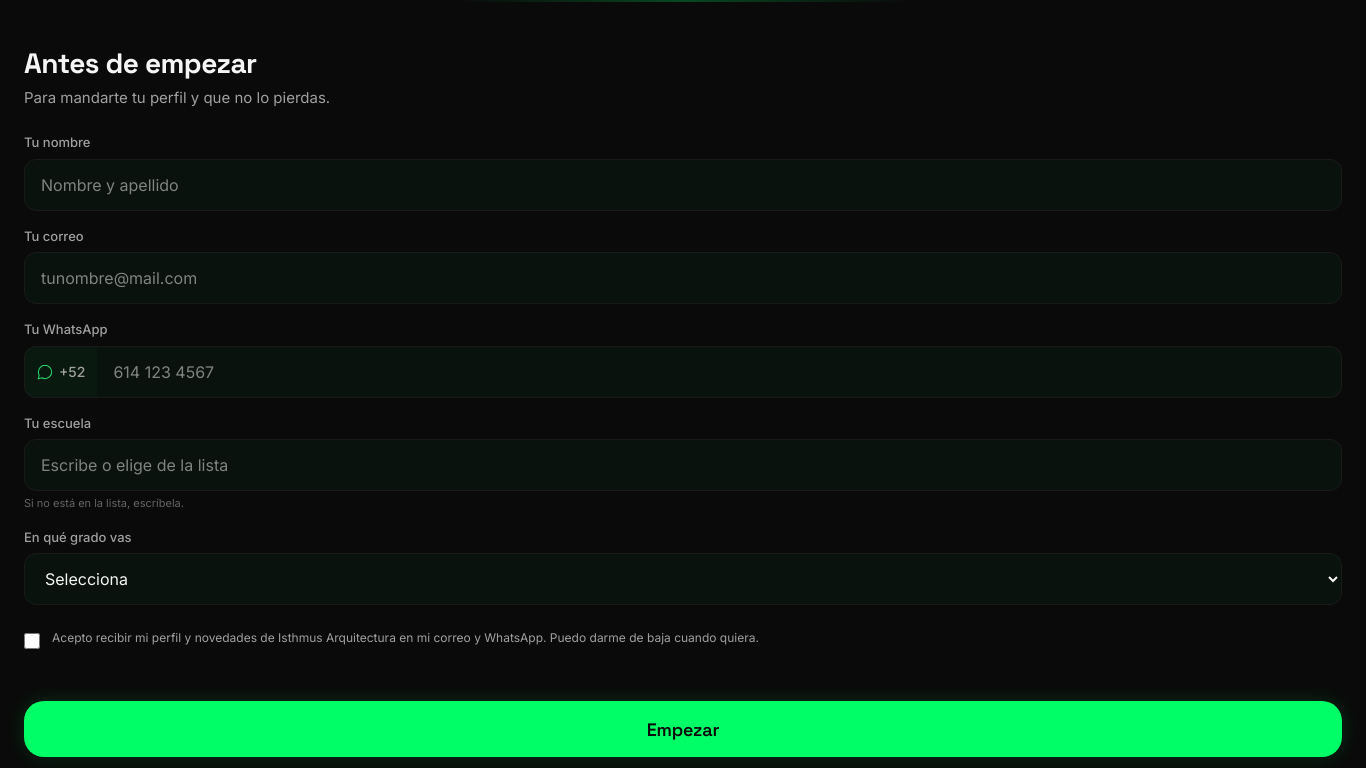
it: LeadForm — validation › blocks submit when school is empty
Type "Maria" into the field labelled "Tu nombre" at (683, 185), box [24, 159, 1342, 211]
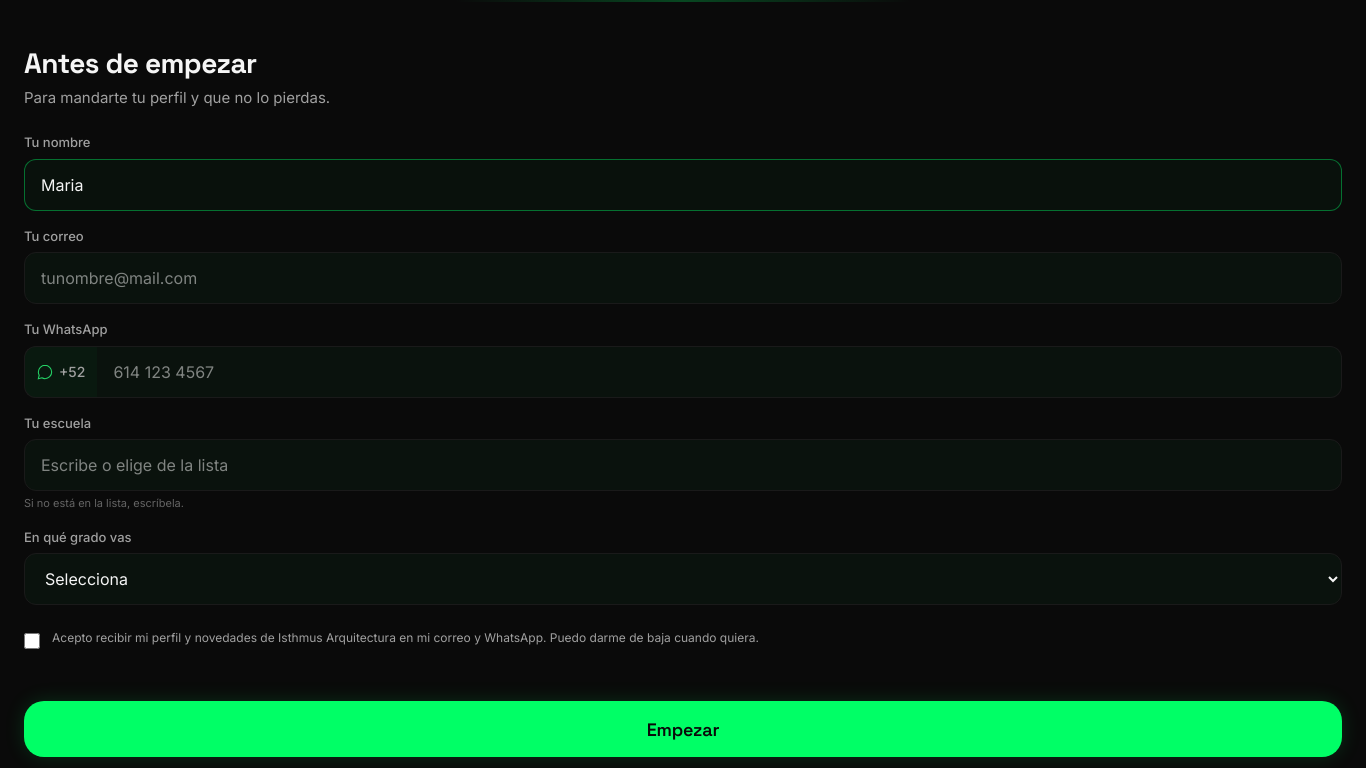
Type "maria@example.com" into the field labelled "Tu correo" at (683, 278), box [24, 252, 1342, 304]
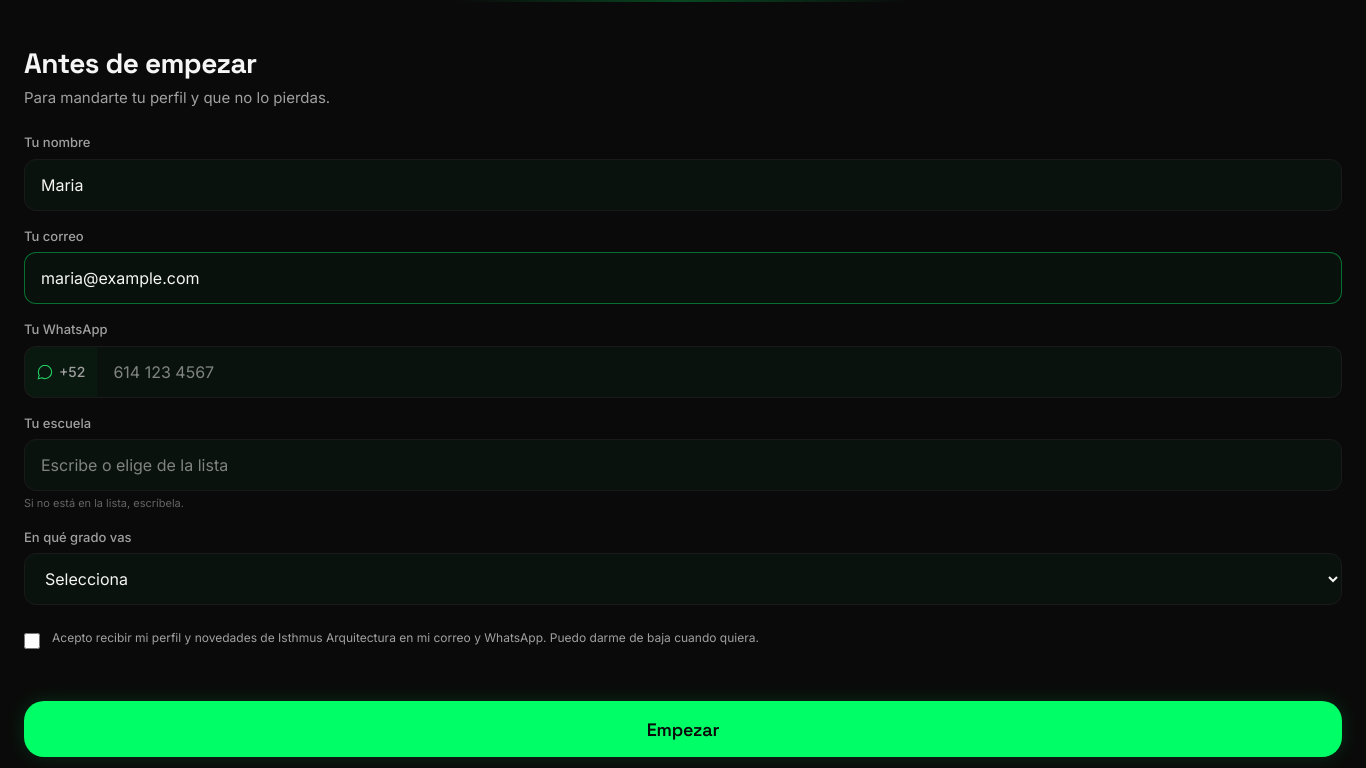
Type "6141234567" into the field labelled "Tu WhatsApp" at (720, 372), box [97, 346, 1342, 398]
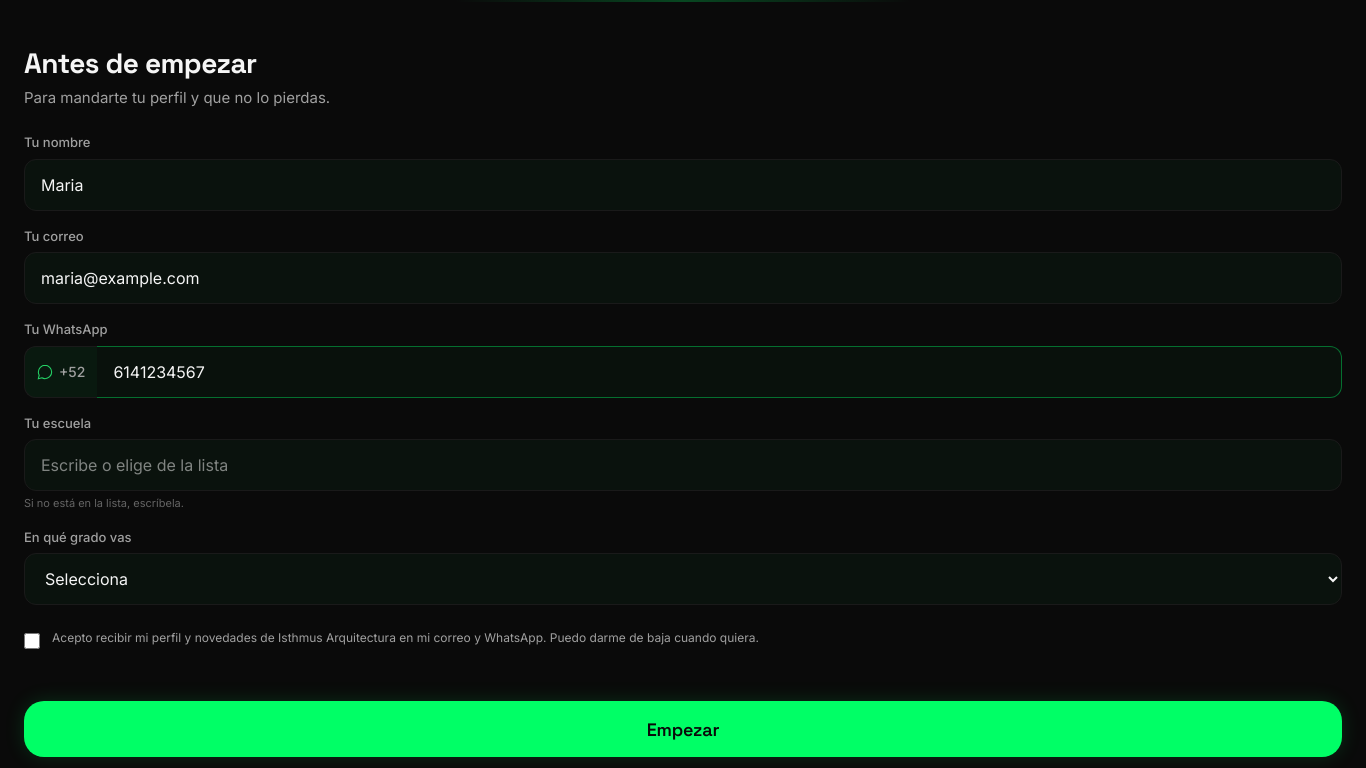
Select "3º de prepa (último año)" in the dropdown labelled "En qué grado vas" at (683, 579), box [24, 553, 1342, 605]
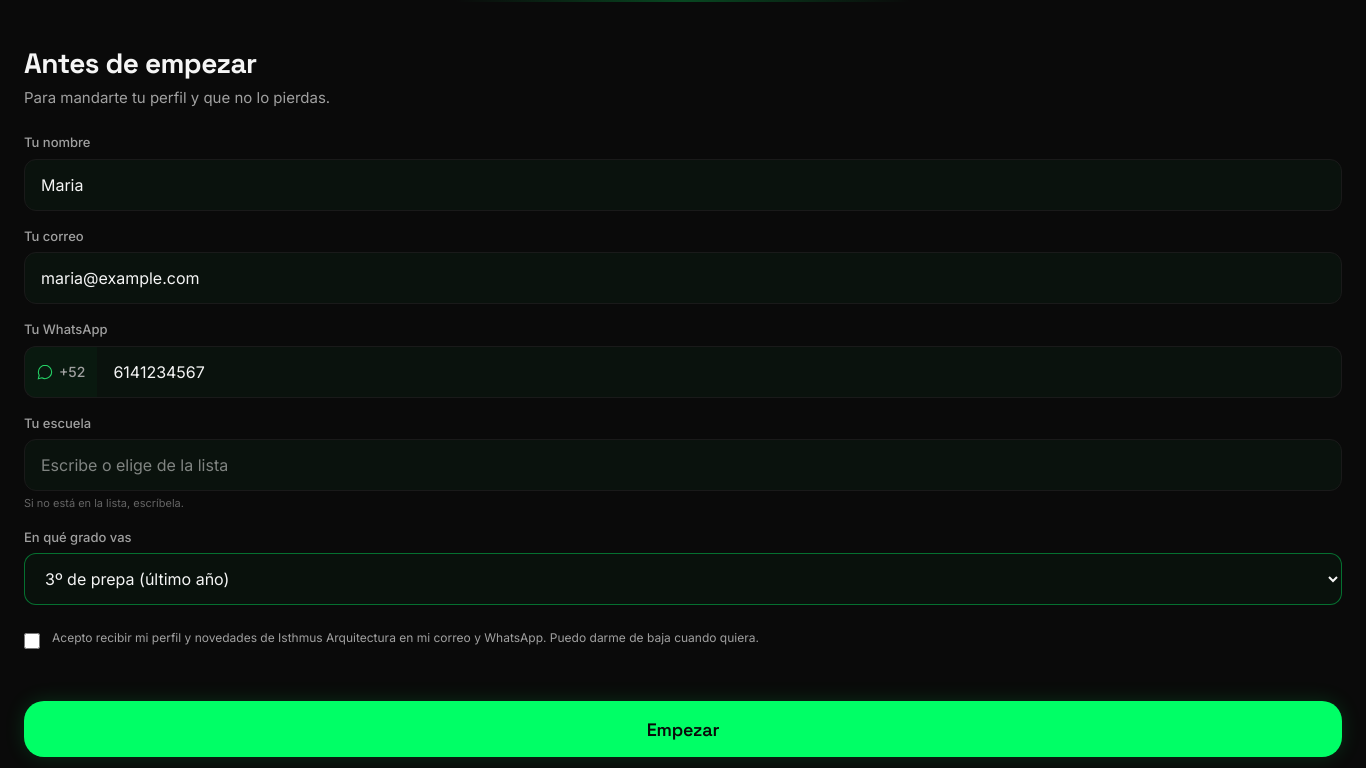
Click the checkbox at (32, 641), box [24, 633, 40, 649]
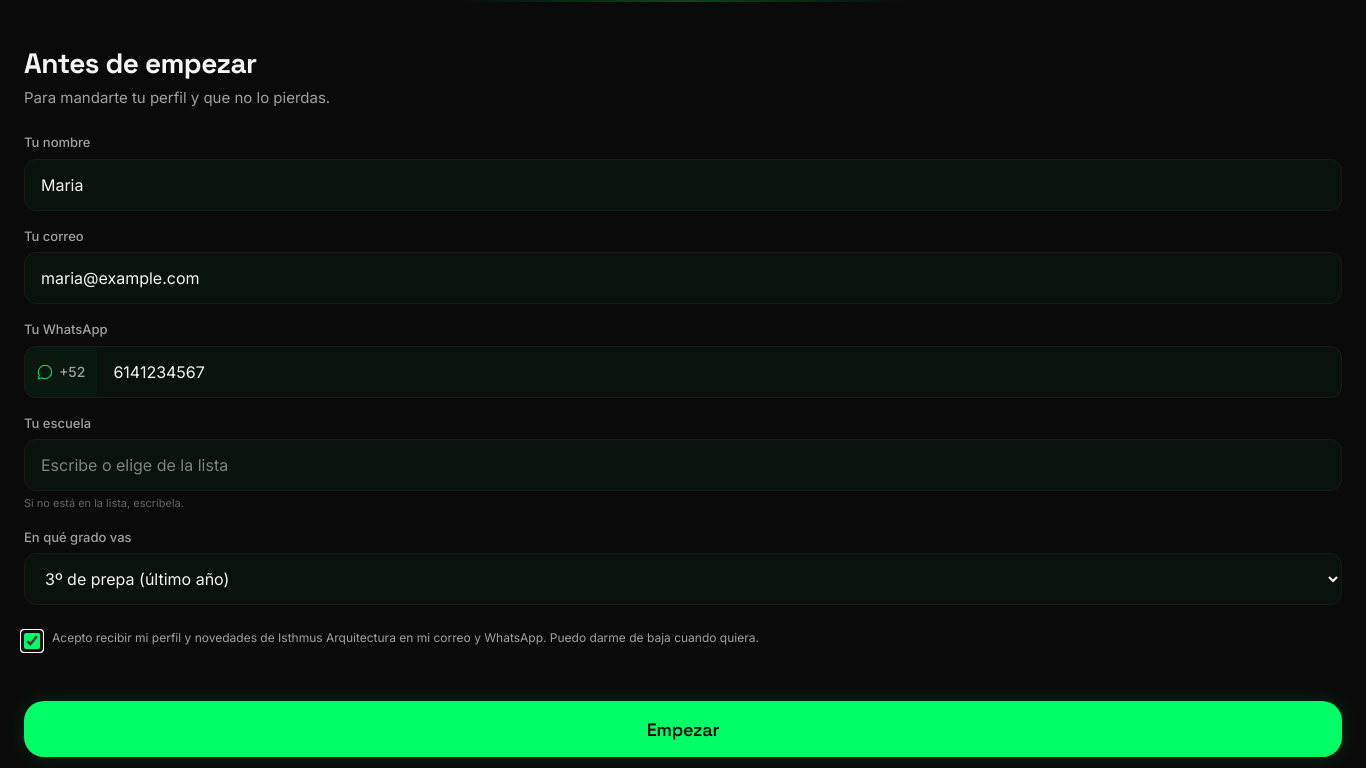
Click the button "Empezar" at (683, 729), box [24, 701, 1342, 757]
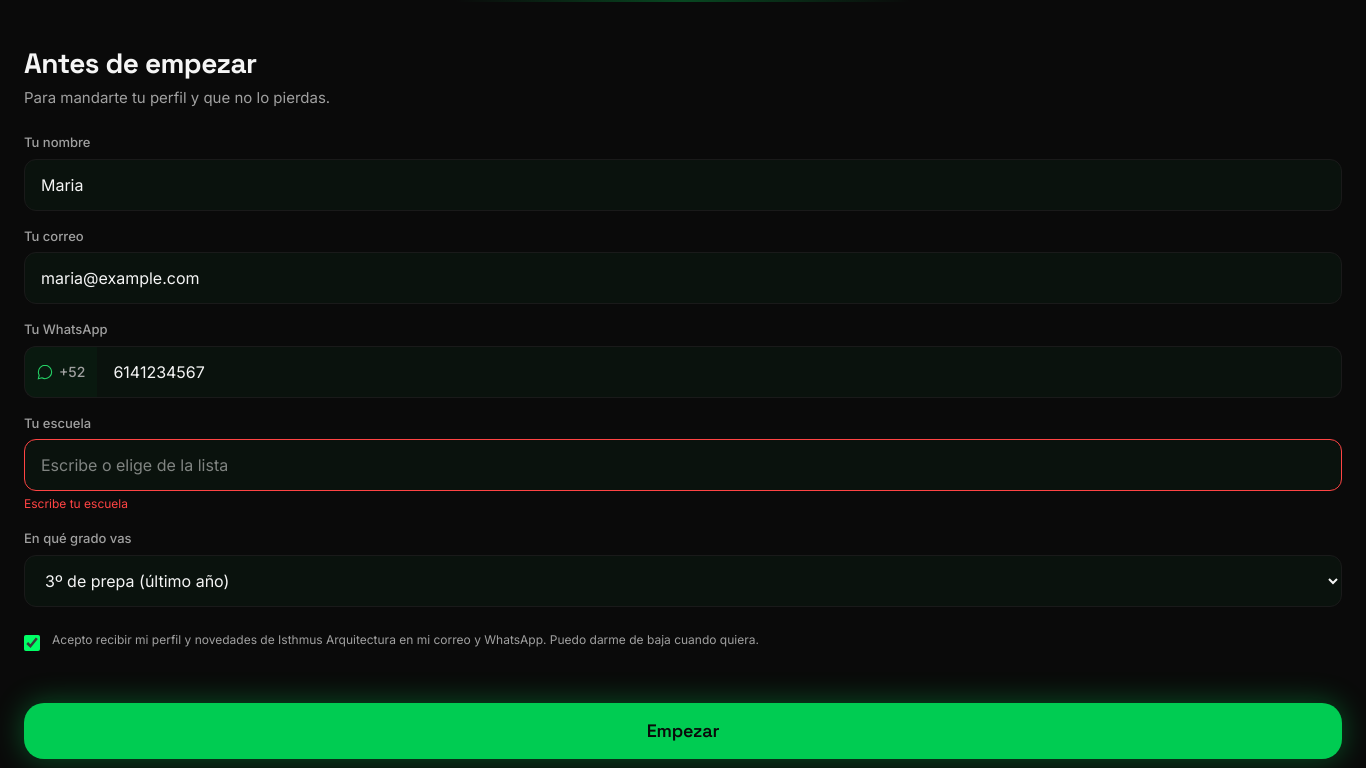
expect the text "Escribe tu escuela" is shown: met, box [24, 496, 128, 511]
